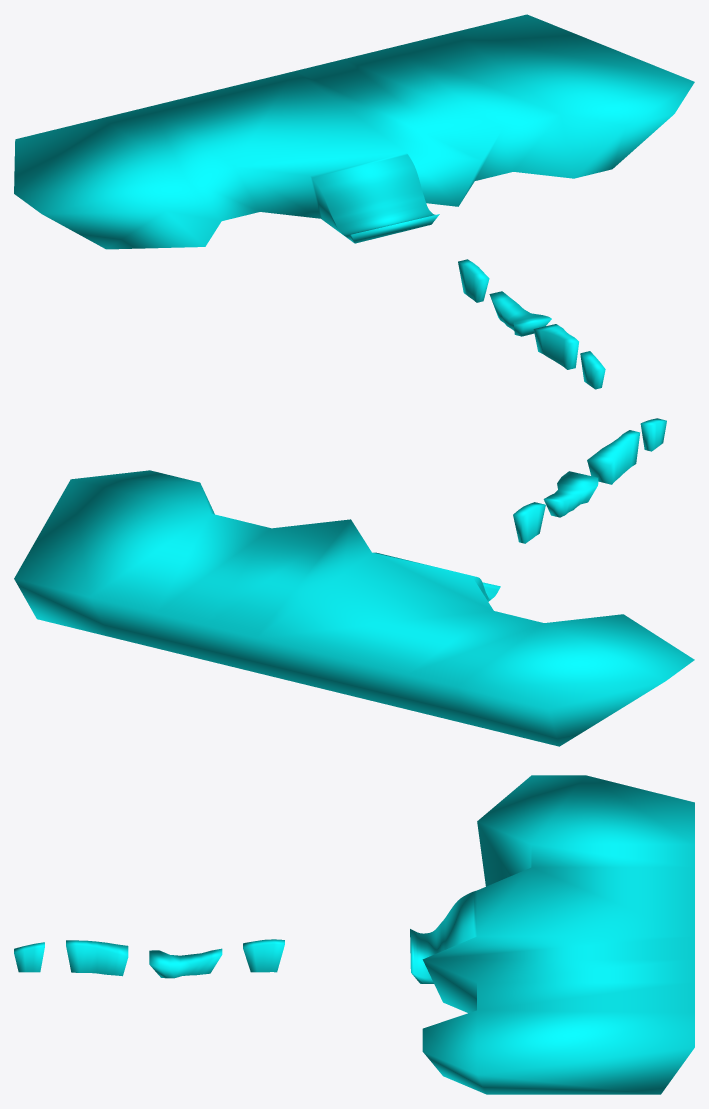
The model's file is map prototype.fbx.
3 renders of one model, top to bottom at view 1: azimuth 30°, elevation 25°; view 2: azimuth 150°, elevation 25°; view 3: azimuth 270°, elevation 25°, orthographic. The views are drawn at different scales.
Parts seen in each view (by area): view 1: Starting Point, Map; view 2: Starting Point, Map; view 3: Starting Point, Map.
Boxes of the visible parts, <box> form: Starting Point: <box>14,14,694,249</box>; Map: <box>458,259,605,389</box>; Starting Point: <box>14,470,694,746</box>; Map: <box>513,418,666,543</box>; Starting Point: <box>410,775,694,1094</box>; Map: <box>14,939,284,978</box>.
Size of the model in its own units: 26664 by 2247 by 25642.
